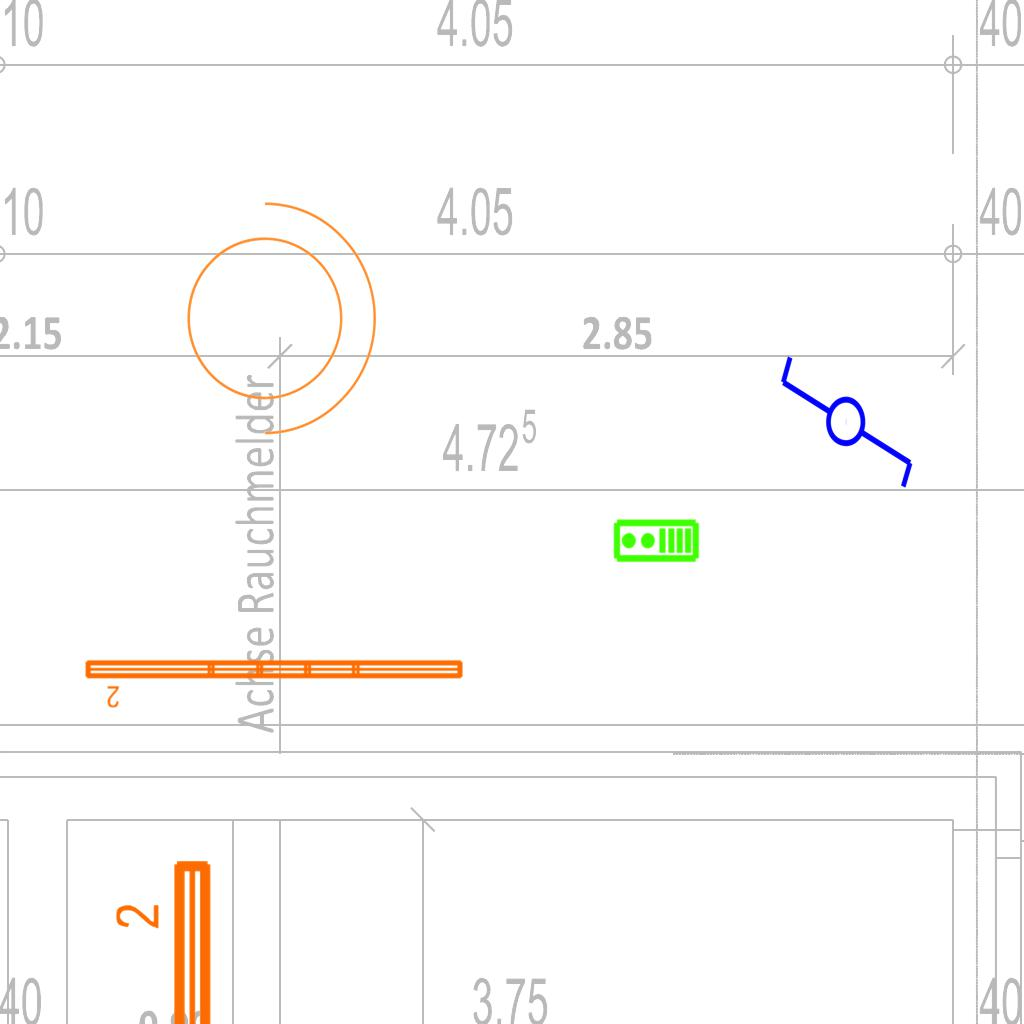Ambulanz_Pendelleuchte_LED: (81, 654, 468, 710), (111, 852, 223, 1024)
Gegensprechanlage_mit_Video: (612, 518, 700, 565)
Scheinwerfer_fuer_Alarmbeleuchtung: (162, 180, 387, 444)
Wechselschalter: (776, 335, 920, 492)
